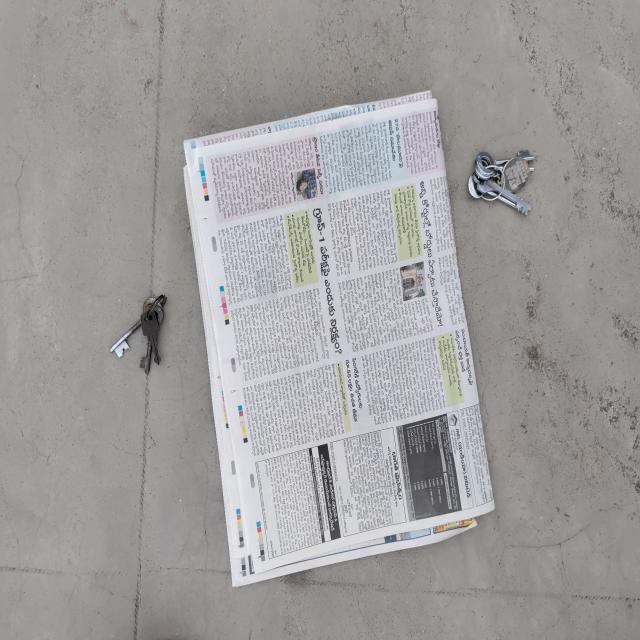dry: (180, 92, 456, 582), (466, 148, 541, 216), (111, 291, 169, 372)
